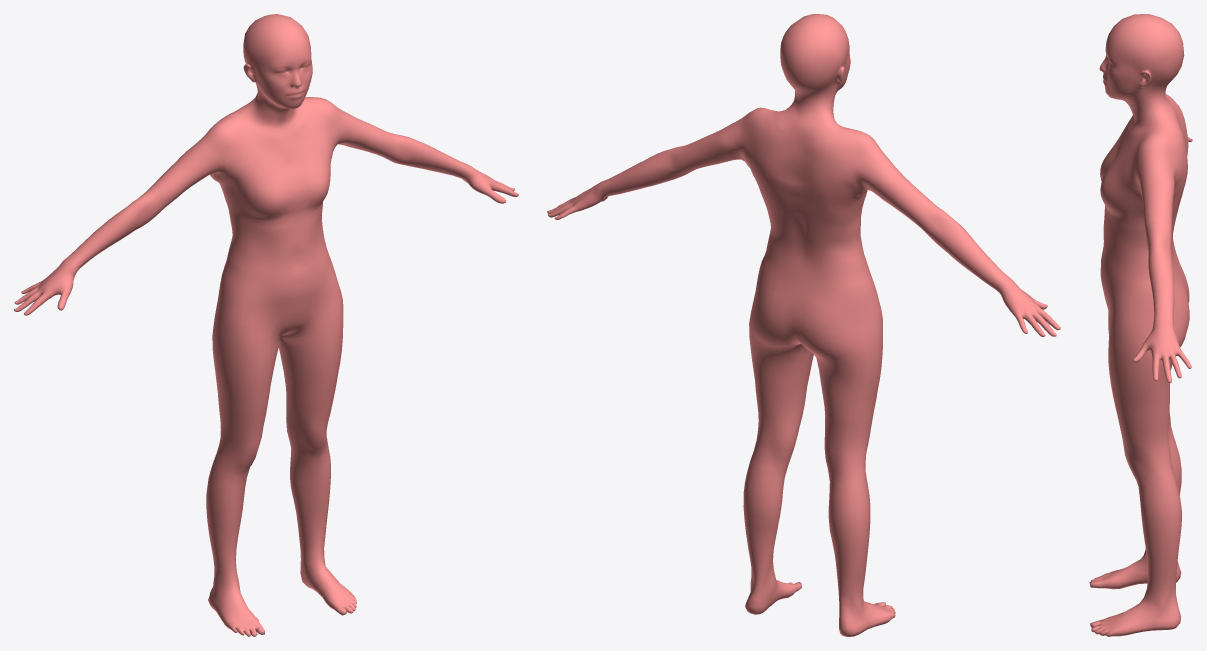
File: female_std.fbx
3 renders of one model, left to right at view 1: azimuth 30°, elevation 25°; view 2: azimuth 150°, elevation 25°; view 3: azimuth 270°, elevation 25°, orthographic.
Visible parts, largest first — view 1: body_std.001; view 2: body_std.001; view 3: body_std.001.
Part boxes in pixels (box(x1,y1,x2,y2)): body_std.001: box(14, 14, 518, 636); body_std.001: box(547, 14, 1060, 636); body_std.001: box(1089, 14, 1192, 636).
Size of the model in its own units: 147 by 165 by 26.07.
